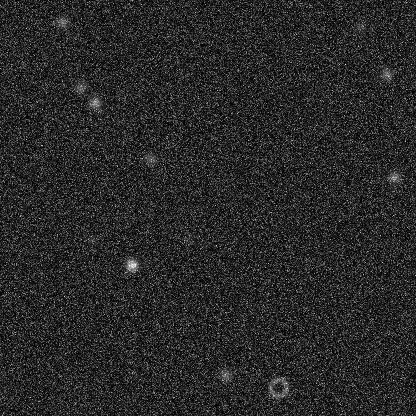Ring: (266, 375, 290, 399)
Spot: (72, 78, 88, 94), (142, 151, 158, 167), (124, 256, 140, 272), (217, 366, 233, 382), (54, 13, 70, 29), (378, 66, 394, 82), (182, 231, 198, 247), (352, 18, 368, 34), (87, 94, 103, 110), (386, 169, 402, 185), (82, 232, 98, 248)
